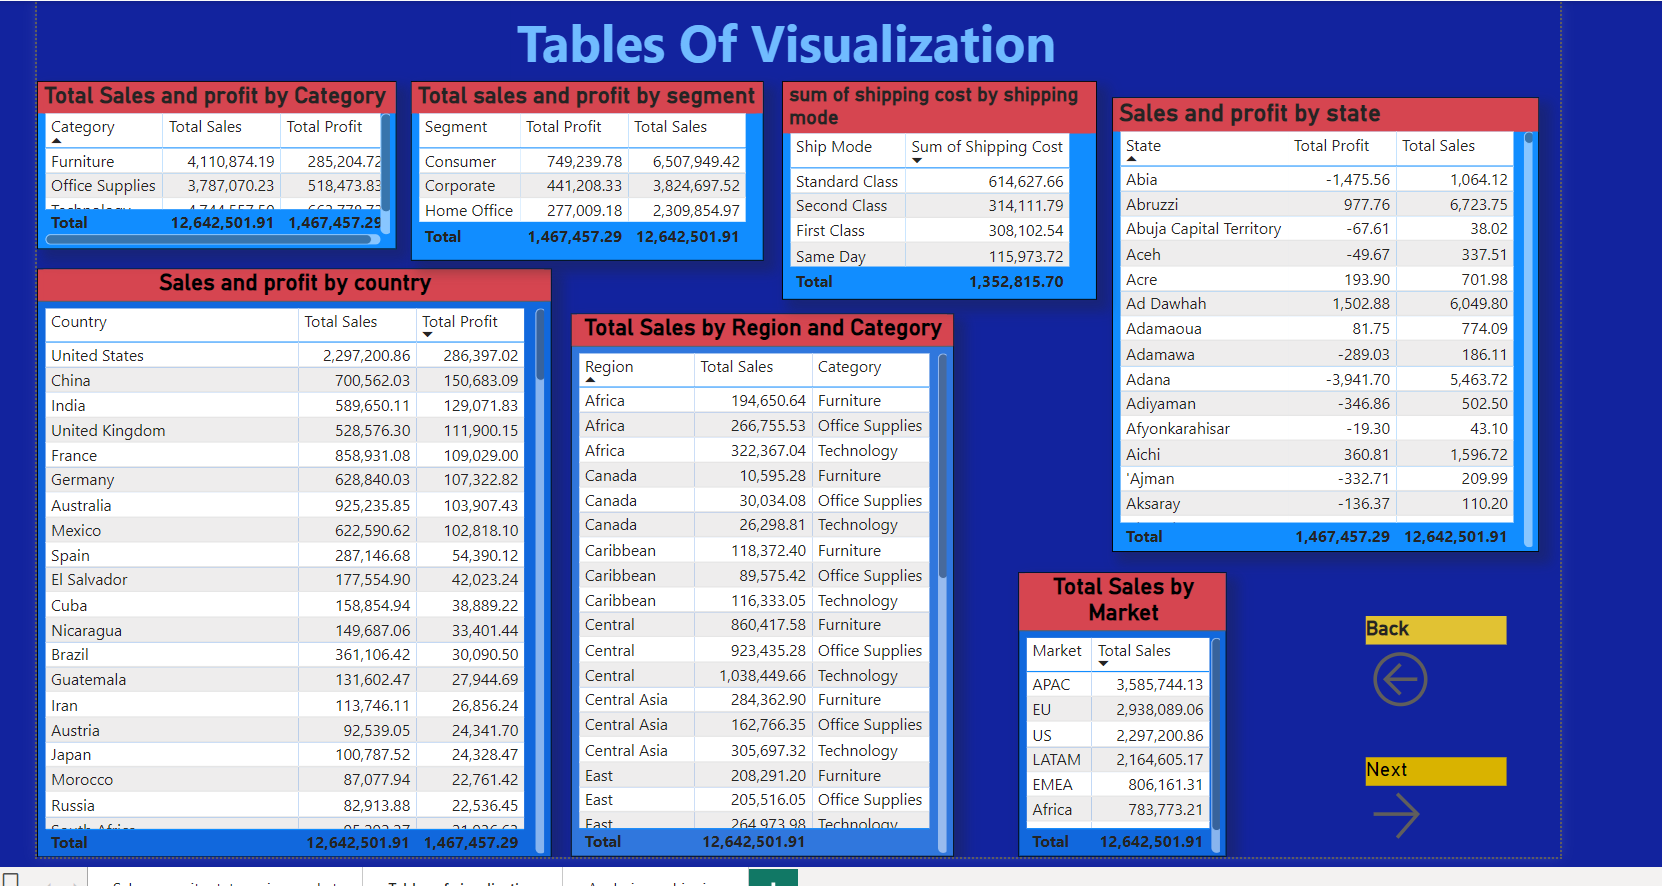

The dashboard page shown, as its layout file describes it:
{"tool":"powerbi","page":{"name":"Tables of visualization","canvas":[1280,720],"ordinal":1},"visuals":[{"type":"tableEx","title":"Total Sales by Region and Category","fields":{"Values":["Orders.Region","Orders.Total Sales","Orders.Category"]},"box":[448.8,262.8,322.1,457],"z":0},{"type":"actionButton","title":"Next","box":[1117.4,636,118.6,74.4],"z":1000},{"type":"tableEx","title":"Total Sales by Market","fields":{"Values":["Orders.Market","Orders.Total Sales"]},"box":[825.6,480.2,175.6,239.5],"z":2000},{"type":"textbox","box":[398.8,0,559.3,81.4],"z":3000},{"type":"tableEx","title":"Sales and profit by country","fields":{"Values":["Orders.Country","Orders.Total Sales","Orders.Total Profit"]},"box":[0,224.4,432.6,495.4],"z":4000},{"type":"tableEx","title":"Total Sales and profit by Category","fields":{"Values":["Orders.Category","Orders.Total Sales","Orders.Total Profit"]},"box":[0,67.4,302.3,141.9],"z":5000},{"type":"tableEx","title":"Total sales and profit by segment","fields":{"Values":["Orders.Segment","Orders.Total Profit","Orders.Total Sales"]},"box":[314,67.4,296.5,151.2],"z":6000},{"type":"tableEx","title":"Sales and profit by state","fields":{"Values":["Orders.State","Orders.Total Profit","Orders.Total Sales"]},"box":[903.5,81.4,359.3,382.6],"z":7000},{"type":"tableEx","title":"sum of shipping cost by shipping mode","fields":{"Values":["Orders.Ship Mode","Sum(Orders.Shipping Cost)"]},"box":[626.7,67.4,265.1,183.7],"z":8000},{"type":"actionButton","title":"Back","box":[1117.4,517.4,118.6,82.6],"z":9000}]}

Visuals, with their boxes on the page's 1280x720 design canvas (x1, y1, x2, y2). These are canvas units, not pixel positions in the 1662x886 screenshot, which may show the page scaled, cropped or inside an application window:
"Total Sales by Region and Category" tableEx: 449/263/771/720
"Next" actionButton: 1117/636/1236/710
"Total Sales by Market" tableEx: 826/480/1001/720
textbox: 399/0/958/81
"Sales and profit by country" tableEx: 0/224/433/720
"Total Sales and profit by Category" tableEx: 0/67/302/209
"Total sales and profit by segment" tableEx: 314/67/610/219
"Sales and profit by state" tableEx: 904/81/1263/464
"sum of shipping cost by shipping mode" tableEx: 627/67/892/251
"Back" actionButton: 1117/517/1236/600
